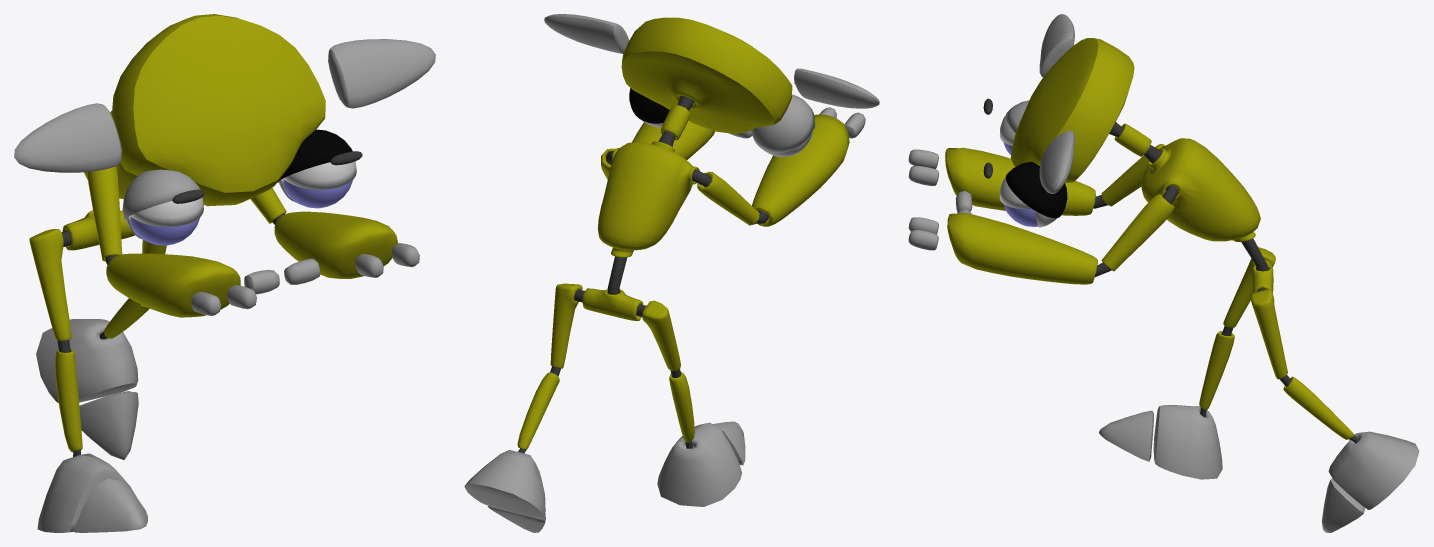
File: push5.obj
3 views of the same model, side by side, from view 1: azimuth 30°, elevation 25°; view 2: azimuth 150°, elevation 25°; view 3: azimuth 270°, elevation 25° (orthographic). The views are drawn at different scales.
Visible parts, largest first — view 1: Mesh polySurface50, Mesh polySurface37, Mesh polySurface18, Mesh polySurface47, Mesh polySurface44, Mesh polySurface10, Mesh polySurface48, Mesh polySurface26, Mesh polySurface8, Mesh polySurface24, Mesh polySurface28, Mesh polySurface38 (+18 smaller); view 2: Mesh polySurface41, Mesh polySurface49, Mesh polySurface48, Mesh polySurface37, Mesh polySurface26, Mesh polySurface10, Mesh polySurface21, Mesh polySurface45, Mesh polySurface42, Mesh polySurface12, Mesh polySurface28, Mesh polySurface38 (+10 smaller); view 3: Mesh polySurface41, Mesh polySurface18, Mesh polySurface50, Mesh polySurface48, Mesh polySurface10, Mesh polySurface26, Mesh polySurface37, Mesh polySurface51, Mesh polySurface4, Mesh polySurface24, Mesh polySurface12, Mesh polySurface44 (+7 smaller).
Boxes of the visible parts, x1,y1,x2,y2 form: Mesh polySurface50: (133,15,325,192); Mesh polySurface37: (106,253,240,317); Mesh polySurface18: (274,211,397,278); Mesh polySurface47: (14,103,121,172); Mesh polySurface44: (330,39,435,108); Mesh polySurface10: (36,319,138,402); Mesh polySurface48: (111,14,325,206); Mesh polySurface26: (37,453,136,532); Mesh polySurface8: (79,392,138,459); Mesh polySurface24: (74,478,147,532); Mesh polySurface28: (29,229,71,340); Mesh polySurface38: (87,166,122,261); Mesh polySurface41: (597,141,699,257); Mesh polySurface49: (621,51,774,134); Mesh polySurface48: (621,17,792,124); Mesh polySurface37: (752,114,849,226); Mesh polySurface26: (657,422,741,506); Mesh polySurface10: (465,450,545,517); Mesh polySurface21: (751,94,814,153); Mesh polySurface45: (794,70,879,108); Mesh polySurface42: (544,16,623,53); Mesh polySurface12: (550,283,582,368); Mesh polySurface28: (642,300,680,370); Mesh polySurface38: (697,171,759,225); Mesh polySurface41: (1141,138,1260,241); Mesh polySurface18: (947,213,1097,284); Mesh polySurface50: (1010,38,1098,165); Mesh polySurface48: (1014,38,1134,183); Mesh polySurface10: (1328,431,1419,509); Mesh polySurface26: (1155,405,1222,479); Mesh polySurface37: (945,147,1095,215); Mesh polySurface51: (1101,194,1174,271); Mesh polySurface4: (1005,161,1067,218); Mesh polySurface24: (1099,410,1152,461); Mesh polySurface12: (1250,289,1287,379); Mesh polySurface44: (1039,130,1073,193).
Bounding box in the file's own units: 10.05 × 12.72 × 12.74.
